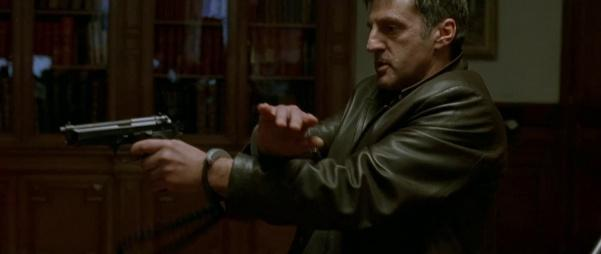Gun: (58, 115, 180, 150)
